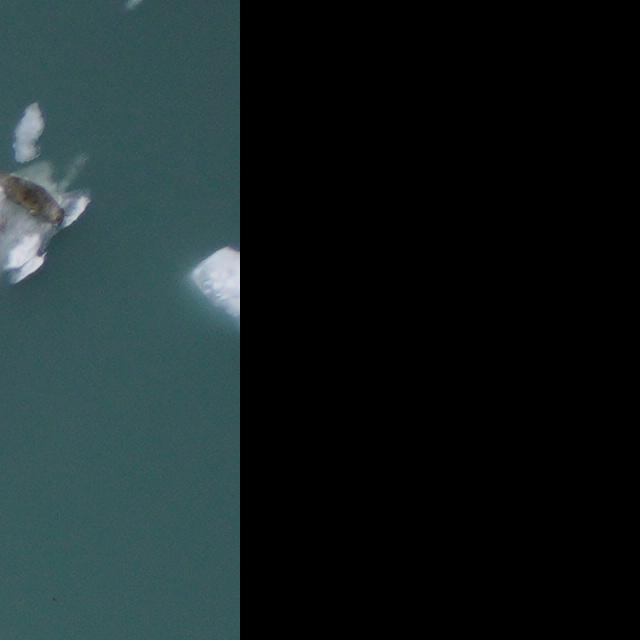seal: (0, 158, 75, 238)
